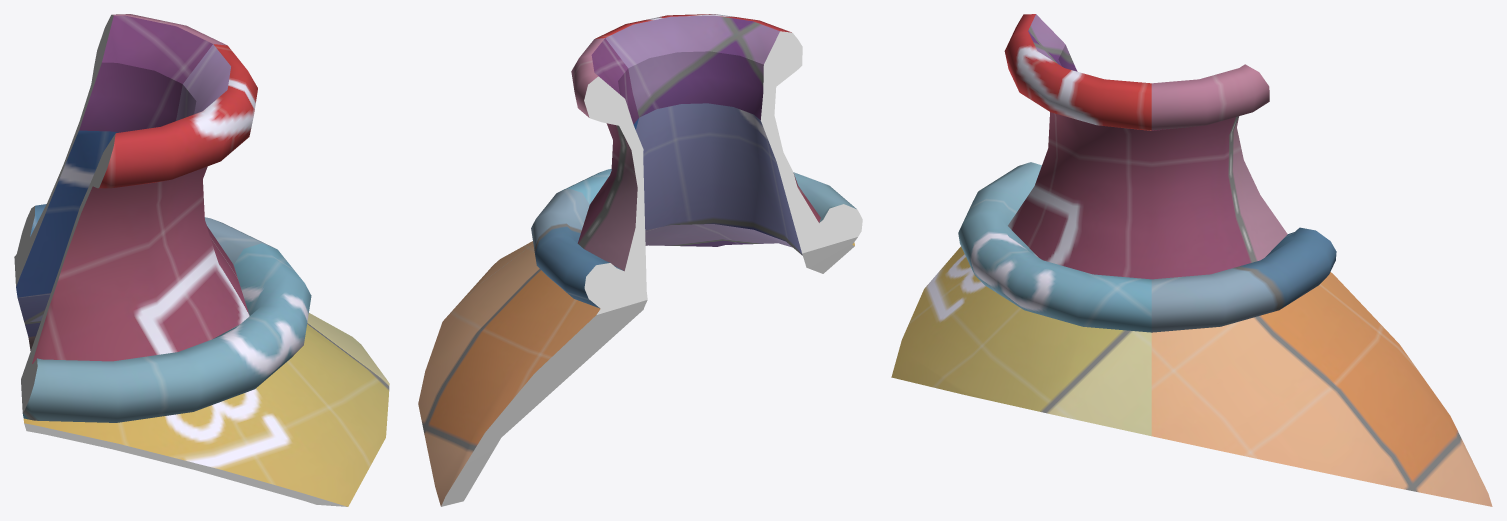
Rendered from LargeVase_SHAT_cell_003.fbx.
3 renders of one model, left to right at view 1: azimuth 30°, elevation 25°; view 2: azimuth 150°, elevation 25°; view 3: azimuth 270°, elevation 25°, orthographic. The views are drawn at different scales.
Parts seen in each view (by area): view 1: LargeVase_SHAT_cell_003; view 2: LargeVase_SHAT_cell_003; view 3: LargeVase_SHAT_cell_003.
Part boxes in pixels (left/top/right/bottom): LargeVase_SHAT_cell_003: left=14, top=14, right=389, bottom=506; LargeVase_SHAT_cell_003: left=418, top=14, right=862, bottom=506; LargeVase_SHAT_cell_003: left=891, top=14, right=1492, bottom=506.
Bounding box in the file's own units: 0.8335 × 0.9265 × 1.22.
2 materials, 1 textured.
